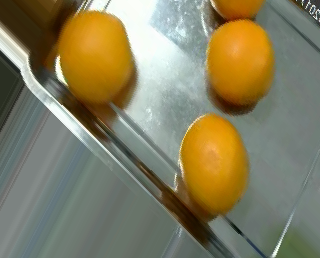Orange: (178, 113, 249, 215), (58, 10, 134, 102), (205, 19, 277, 104)
